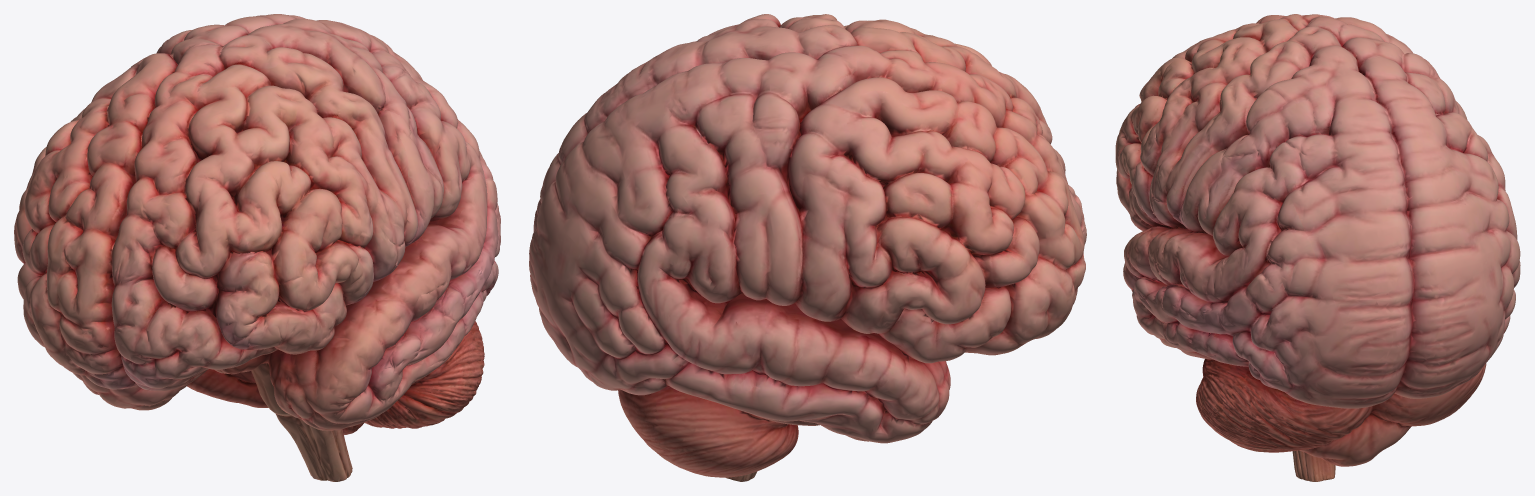
Rendered from brain.glb.
3 views of the same model, side by side, from view 1: azimuth 30°, elevation 25°; view 2: azimuth 150°, elevation 25°; view 3: azimuth 270°, elevation 25° (orthographic). The views are drawn at different scales.
Parts seen in each view (by area): view 1: tripo_node_938185c2-e59c-4f52-8e5e-bb526af0889b; view 2: tripo_node_938185c2-e59c-4f52-8e5e-bb526af0889b; view 3: tripo_node_938185c2-e59c-4f52-8e5e-bb526af0889b.
Part boxes in pixels (x1,y1,x2,y2): tripo_node_938185c2-e59c-4f52-8e5e-bb526af0889b: (14, 14, 500, 481); tripo_node_938185c2-e59c-4f52-8e5e-bb526af0889b: (529, 14, 1086, 481); tripo_node_938185c2-e59c-4f52-8e5e-bb526af0889b: (1115, 14, 1520, 481).
Bounding box in the file's own units: 0.9803 × 0.9005 × 0.8078.
Materials: 1 (1 with a texture image).
